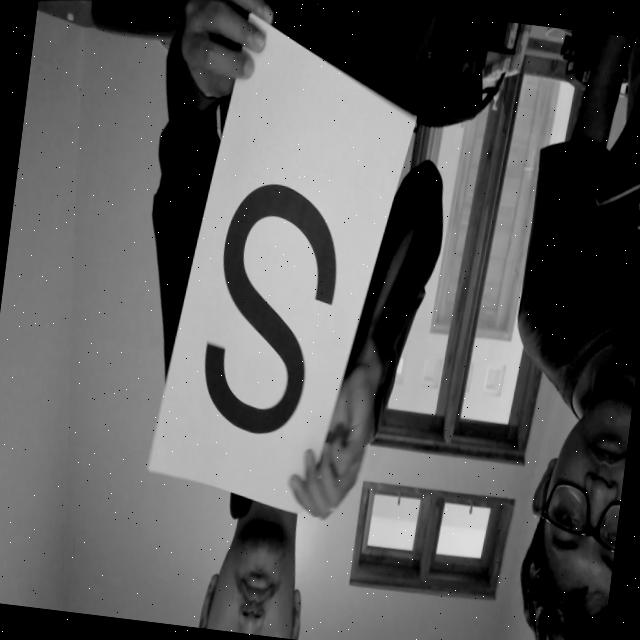s: (177, 161, 366, 460)
